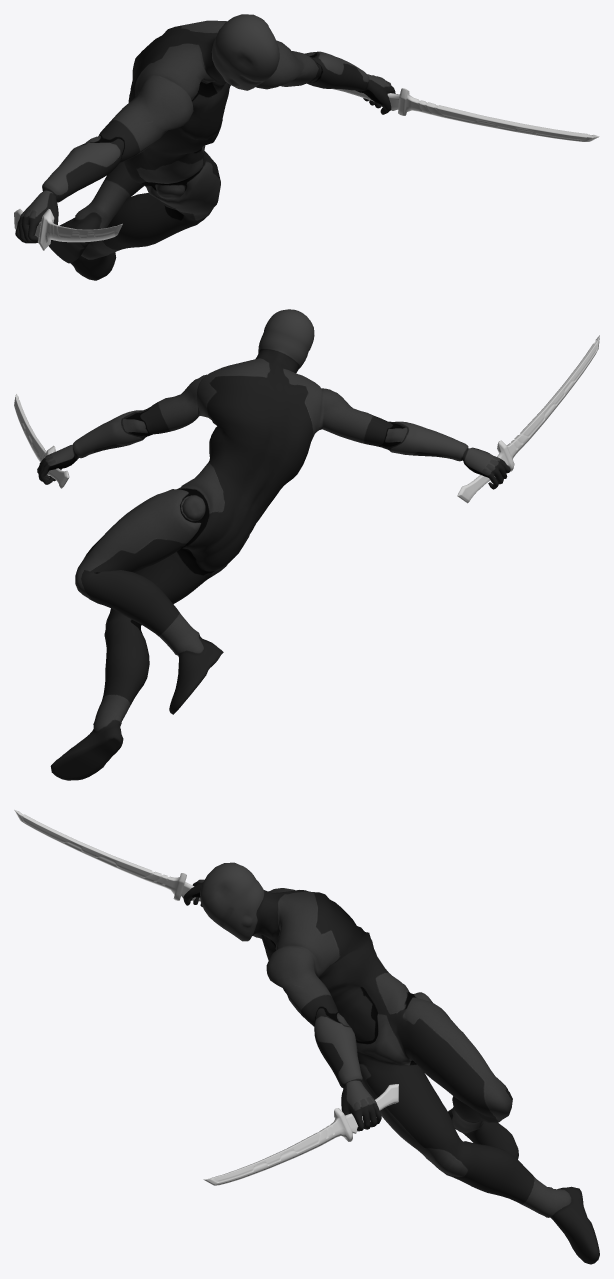
The picture shows the model from 3 angles, top to bottom: view 1: azimuth 30°, elevation 25°; view 2: azimuth 150°, elevation 25°; view 3: azimuth 270°, elevation 25°; orthographic projection. The views are drawn at different scales.
Parts seen in each view (by area): view 1: Cyborg_Ninja_Killer, Sword_l, Sword_l001; view 2: Cyborg_Ninja_Killer, Sword_l001, Sword_l; view 3: Cyborg_Ninja_Killer, Sword_l, Sword_l001.
Boxes of the visible parts, <box> form: Cyborg_Ninja_Killer: <box>15,14,395,280</box>; Sword_l: <box>331,88,599,141</box>; Sword_l001: <box>14,209,122,250</box>; Cyborg_Ninja_Killer: <box>37,309,510,780</box>; Sword_l001: <box>457,335,599,503</box>; Sword_l: <box>14,394,69,488</box>; Cyborg_Ninja_Killer: <box>183,862,599,1264</box>; Sword_l: <box>203,1084,398,1185</box>; Sword_l001: <box>14,809,200,901</box>.
Size of the model in its own units: 202 by 139 by 198.
